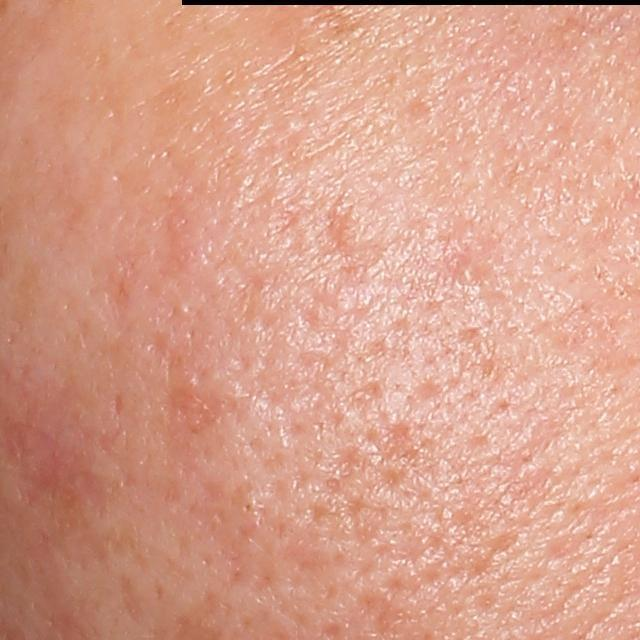atrophic_scar: (118, 568, 146, 634), (111, 389, 128, 420)
